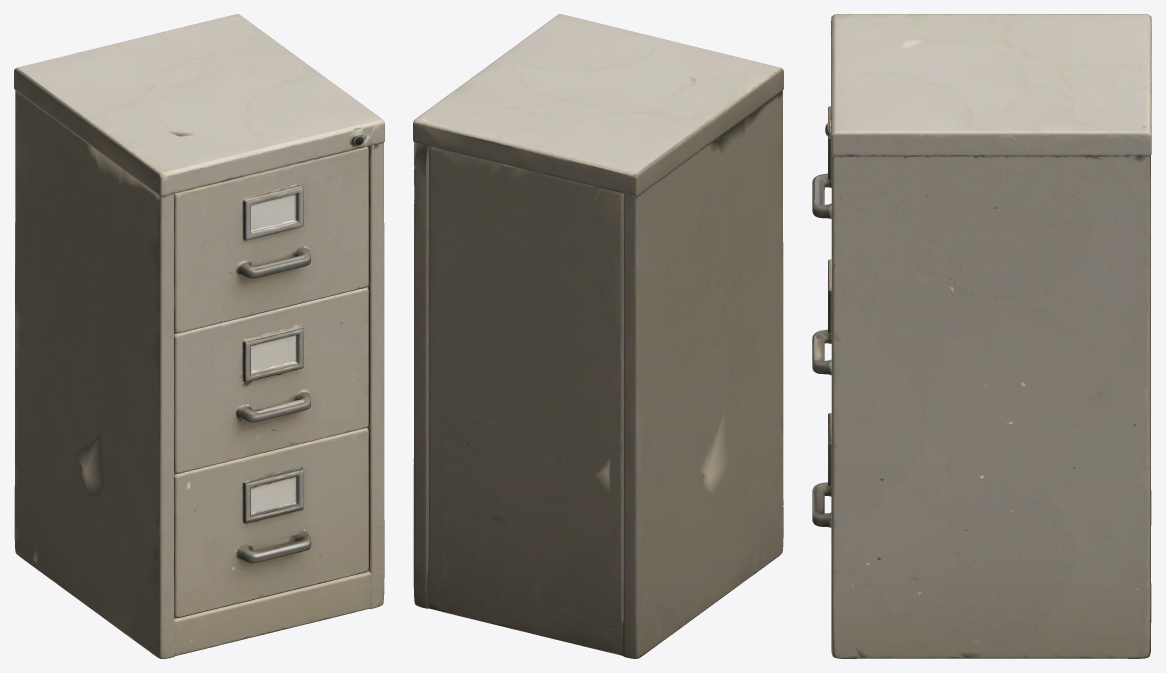
File: filing_cabinet_0194476c_v2.glb
3 renders of one model, left to right at view 1: azimuth 30°, elevation 25°; view 2: azimuth 150°, elevation 25°; view 3: azimuth 270°, elevation 25°, orthographic. The views are drawn at different scales.
Parts seen in each view (by area): view 1: material; view 2: material; view 3: material.
Part boxes in pixels (x1,y1,x2,y2): material: (14,14,384,658); material: (413,14,783,658); material: (812,14,1151,658).
Size of the model in its own units: 0.4654 by 0.964 by 0.5607.
1 material, 1 textured.
